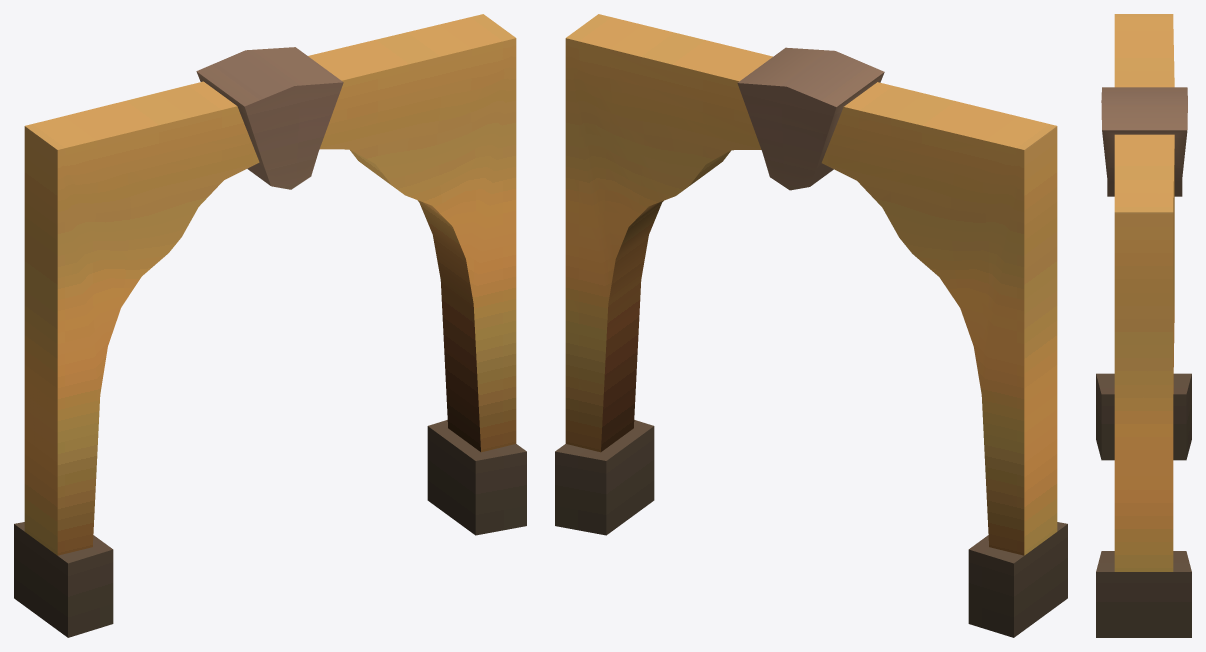
Rendered from Arch.FBX.
The picture shows the model from 3 angles, left to right: view 1: azimuth 30°, elevation 25°; view 2: azimuth 150°, elevation 25°; view 3: azimuth 270°, elevation 25°; orthographic projection. The views are drawn at different scales.
Visible parts, largest first — view 1: Arch; view 2: Arch; view 3: Arch.
Boxes of the visible parts, box(x1,y1,x2,y2) form: Arch: box(14, 14, 526, 637); Arch: box(555, 14, 1067, 637); Arch: box(1096, 14, 1191, 637).
Size of the model in its own units: 0.5 by 0.1022 by 0.5141.
